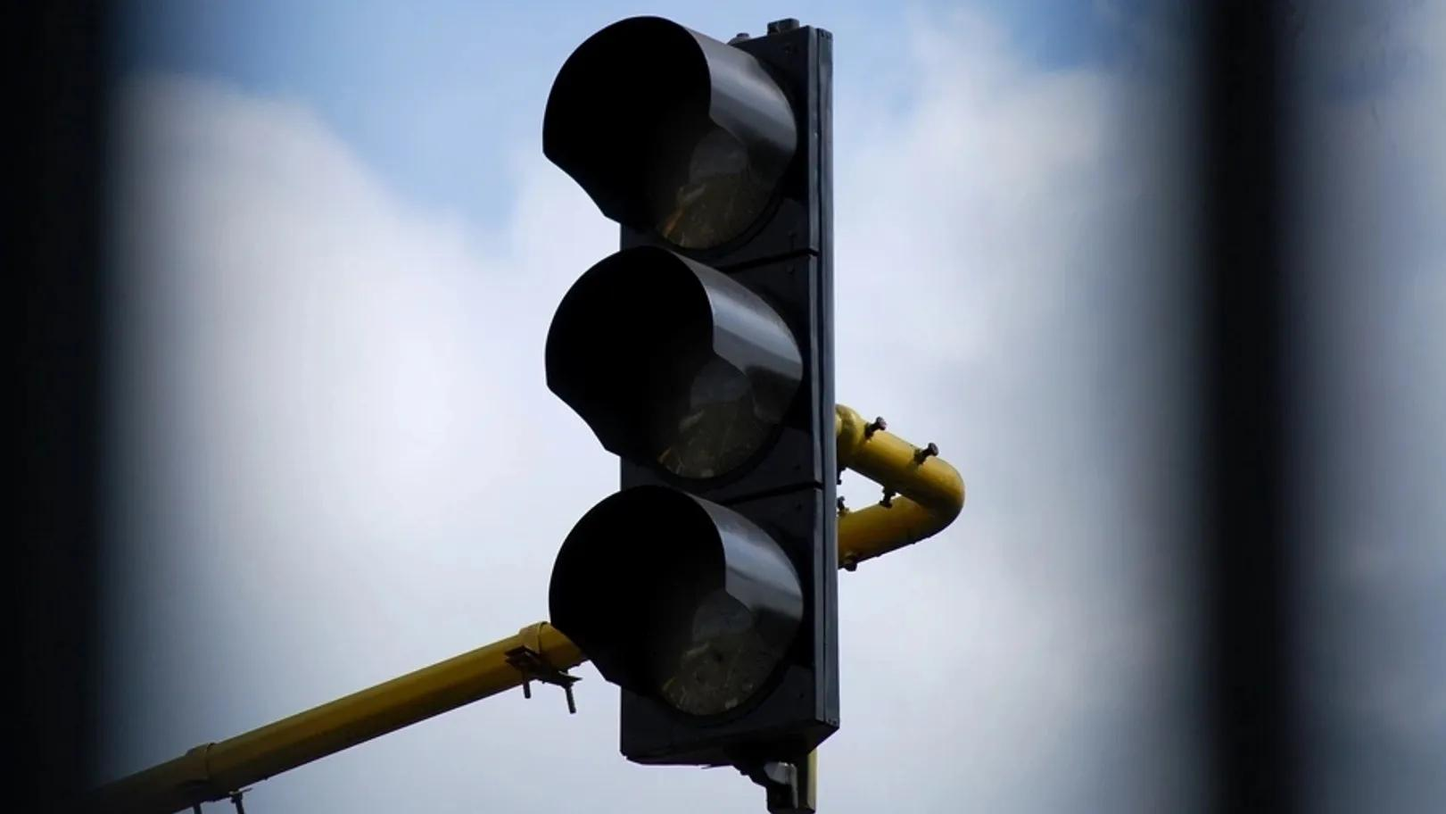off traffic light: (543, 16, 839, 765)
